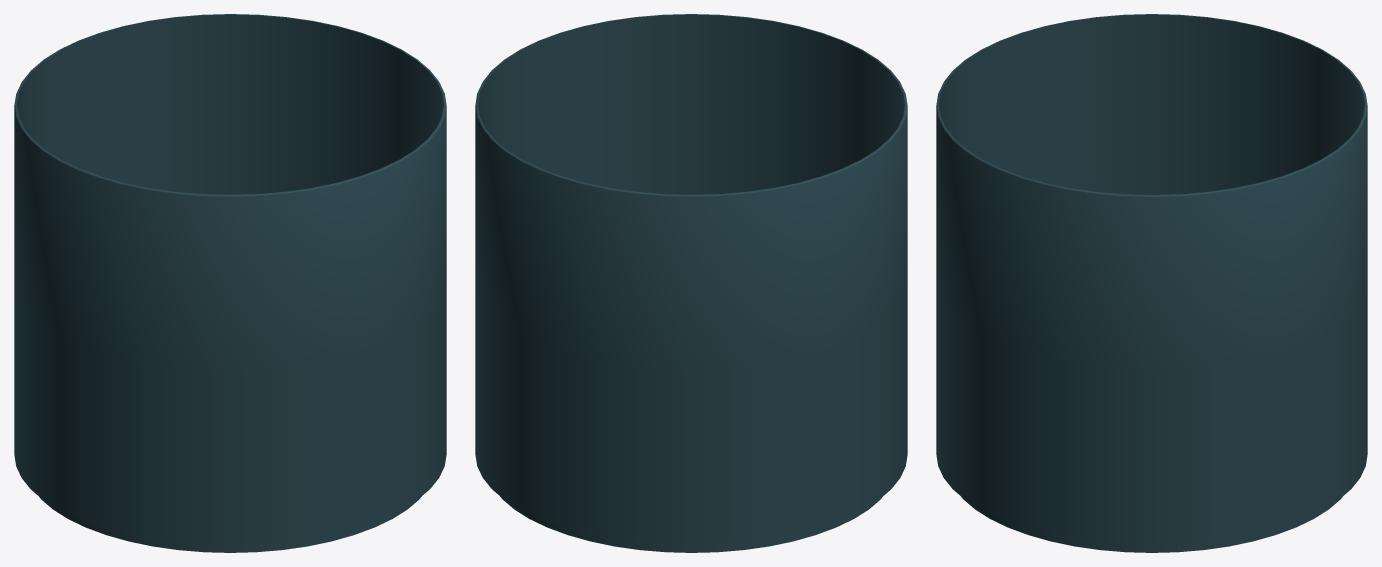
File: benny_planter.gltf
3 views of the same model, side by side, from view 1: azimuth 30°, elevation 25°; view 2: azimuth 150°, elevation 25°; view 3: azimuth 270°, elevation 25° (orthographic).
Visible parts, largest first — view 1: Cylinder; view 2: Cylinder; view 3: Cylinder.
Part boxes in pixels (left/top/right/bottom): Cylinder: left=14, top=14, right=446, bottom=552; Cylinder: left=475, top=14, right=907, bottom=552; Cylinder: left=936, top=14, right=1367, bottom=552.
Bounding box in the file's own units: 0.4492 × 0.4157 × 0.4482.
Materials: 1 (1 with a texture image).
